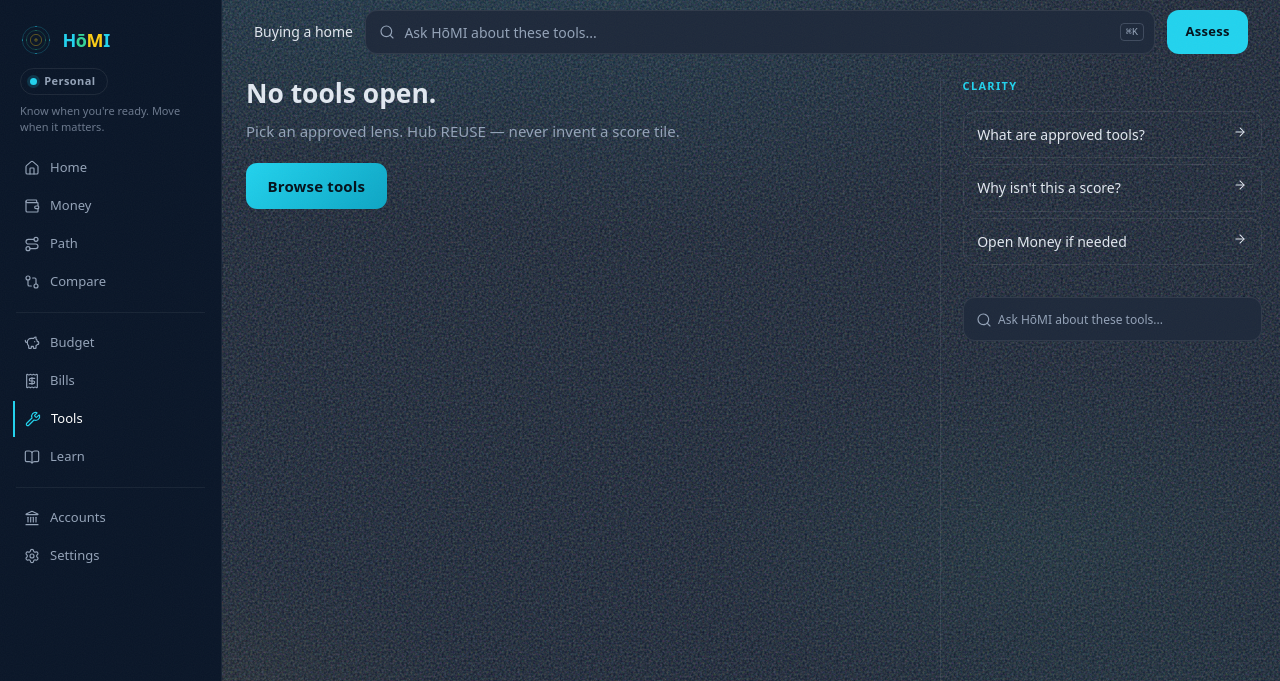
Test: System surfaces v4 in Shell v4 › Tools empty Browse reveals hub REUSE and never a score tile
Step 1. Click the button "Browse tools" → coordinates (316, 186), box [246,163,387,209]
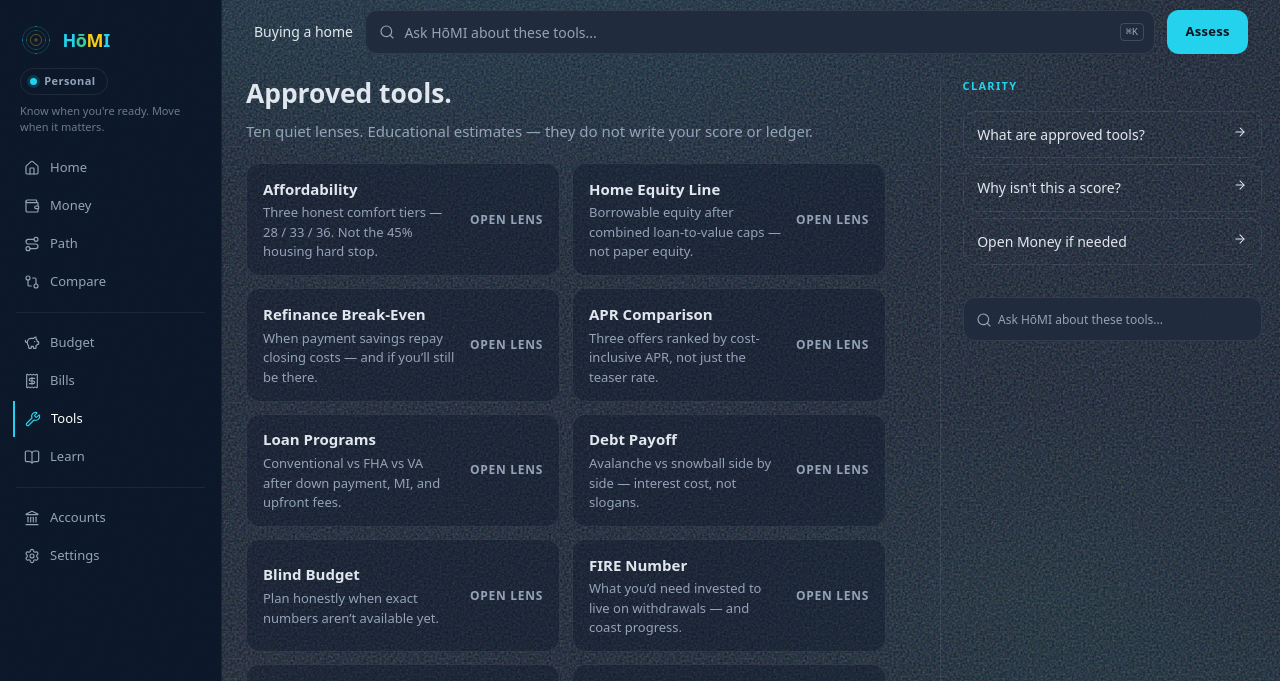
Check: the text "Open lens" is shown, box [470,211,543,229]
